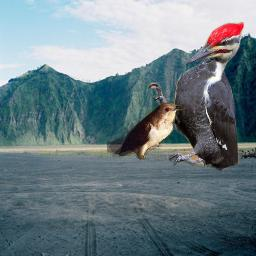Cuckoo: (107, 102, 186, 160)
Woodpecker: (147, 22, 244, 171)
